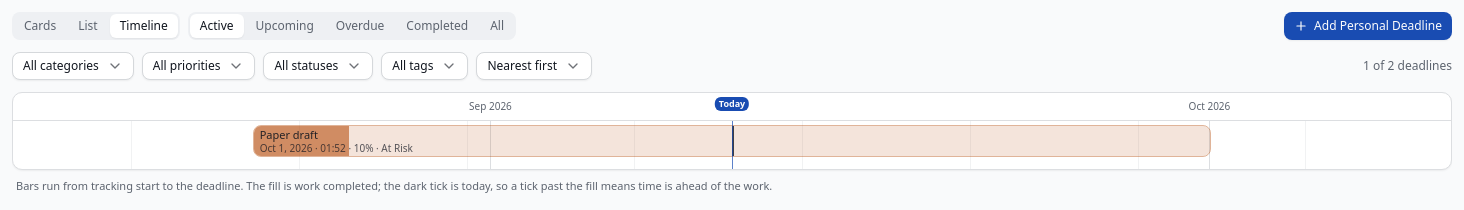
it: PersonalDeadlinesTab › switches scope to completed and view to list, persisting the view
Expected: the button "Paper draft Oct 1, 2026 · 01:52 · 10% · At Risk" is shown, 253,125 -> 1211,157
Click the radio button labelled "Completed" at {"x": 437, "y": 26}, box 396,14 -> 478,38
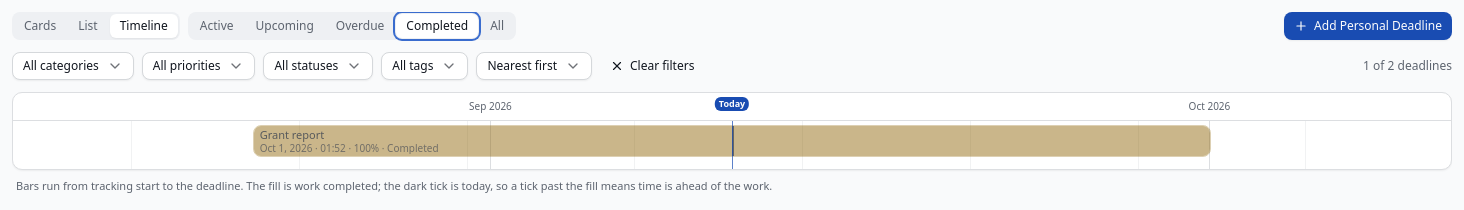
Now the button "Grant report Oct 1, 2026 · 01:52 · 100% · Completed" is shown, box 253,125 -> 1211,157
Now the button "Paper draft" is gone
Click the radio button labelled "List" at {"x": 88, "y": 26}, box 68,14 -> 108,38
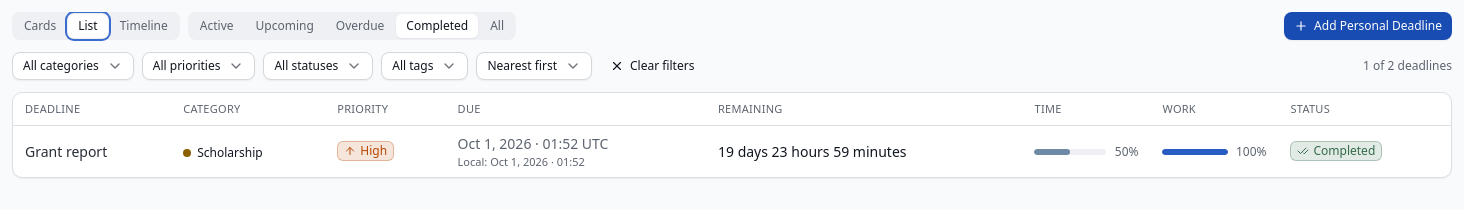
Now the table is shown, box 13,93 -> 1451,177
